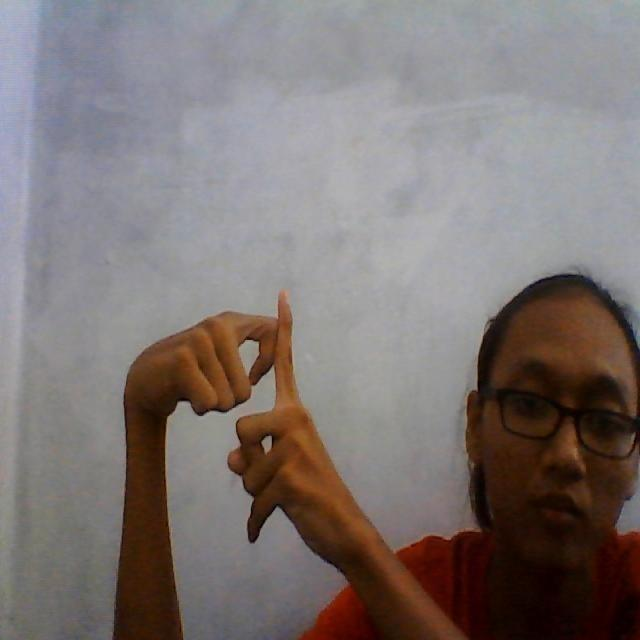K: (193, 286, 331, 512)
